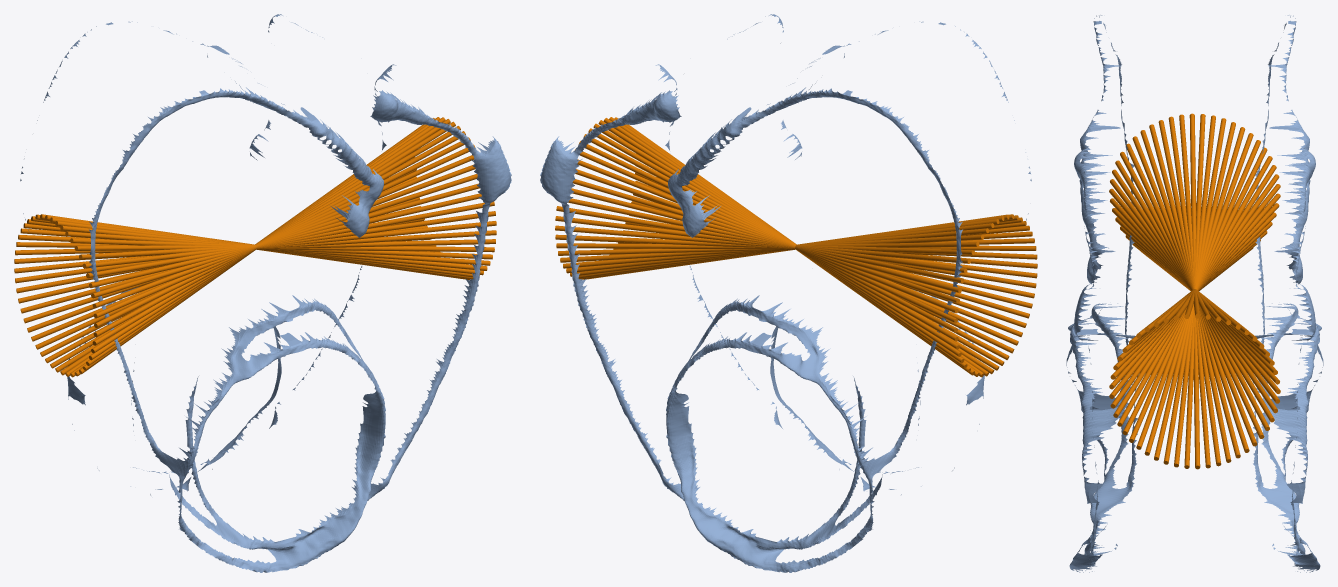
The model's file is A20023516_6145-37-530-7671_DigitalTwin.glb.
3 renders of one model, left to right at view 1: azimuth 30°, elevation 25°; view 2: azimuth 150°, elevation 25°; view 3: azimuth 270°, elevation 25°, orthographic. The views are drawn at different scales.
Parts seen in each view (by area): view 1: world; view 2: world; view 3: world.
Part boxes in pixels (bbox=[...]): world: bbox=[14, 14, 511, 572]; world: bbox=[540, 14, 1037, 572]; world: bbox=[1066, 15, 1323, 572].
Size of the model in its own units: 376 by 439 by 203.
